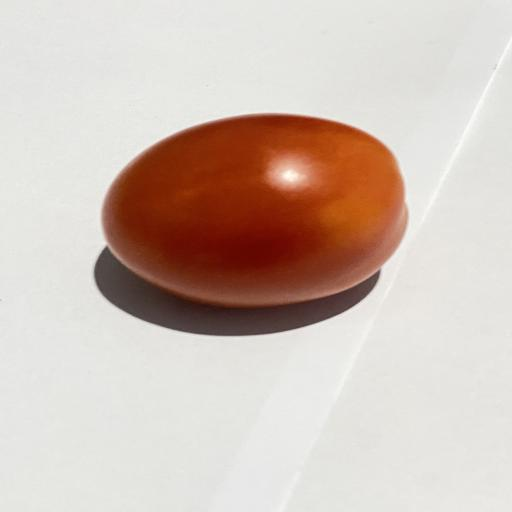ripe: (102, 114, 407, 307)
